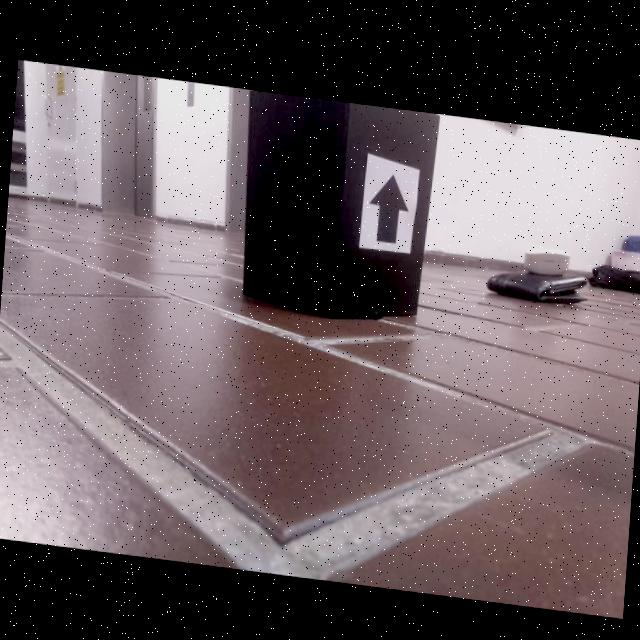UP: (368, 168, 409, 239)
